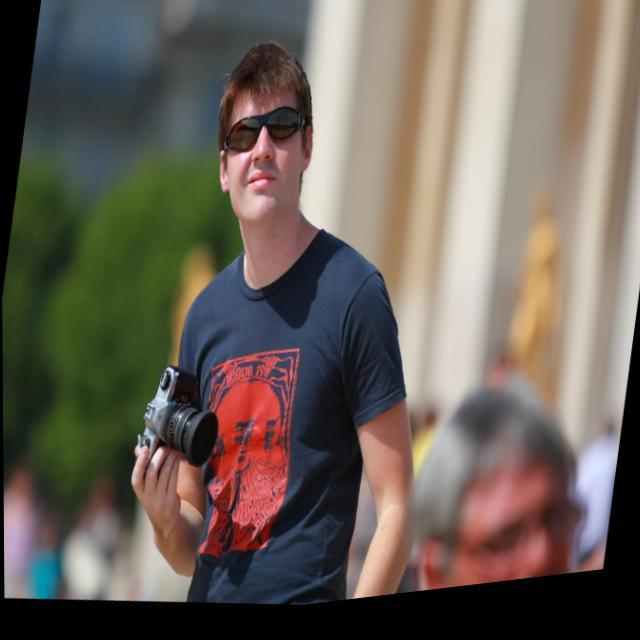Nonhelmet: (212, 39, 319, 225)
